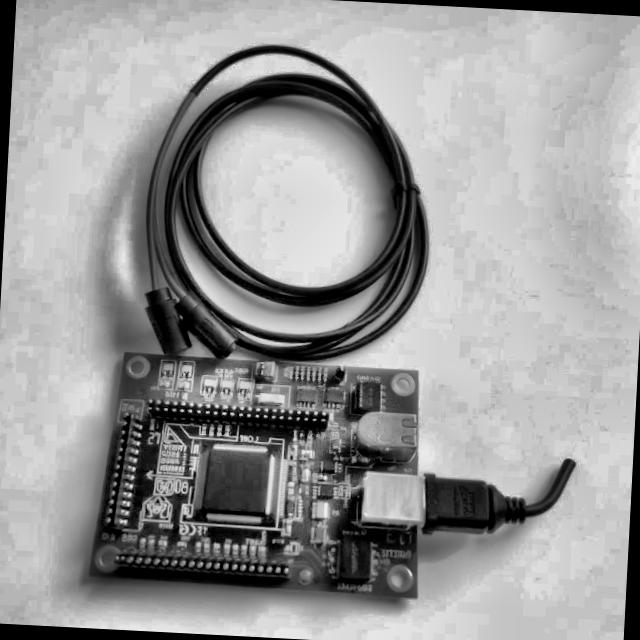Cable: (138, 36, 440, 363)
PCB: (92, 352, 426, 594)
